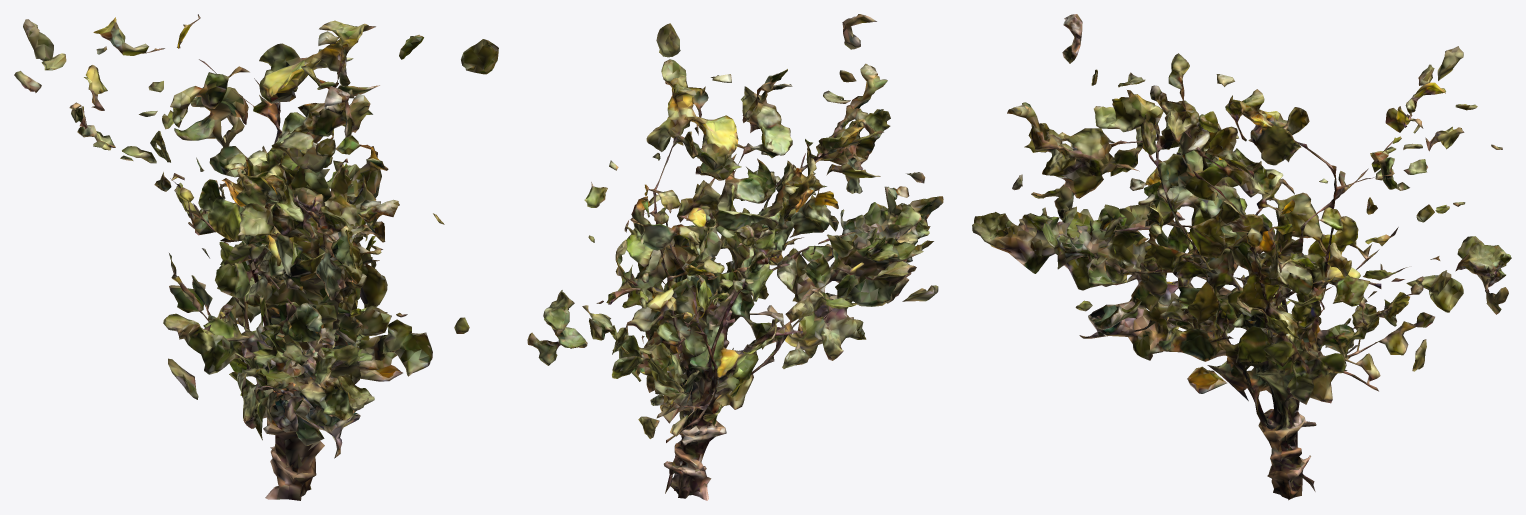
File: vihta v low.glb
3 renders of one model, left to right at view 1: azimuth 30°, elevation 25°; view 2: azimuth 150°, elevation 25°; view 3: azimuth 270°, elevation 25°, orthographic. The views are drawn at different scales.
Parts seen in each view (by area): view 1: Mesh_0; view 2: Mesh_0; view 3: Mesh_0.
Part boxes in pixels (bbox=[...]): Mesh_0: bbox=[14, 14, 498, 500]; Mesh_0: bbox=[527, 14, 943, 500]; Mesh_0: bbox=[972, 14, 1511, 500].
Bounding box in the file's own units: 2.62 × 3.93 × 4.34.
Materials: 1 (1 with a texture image).
